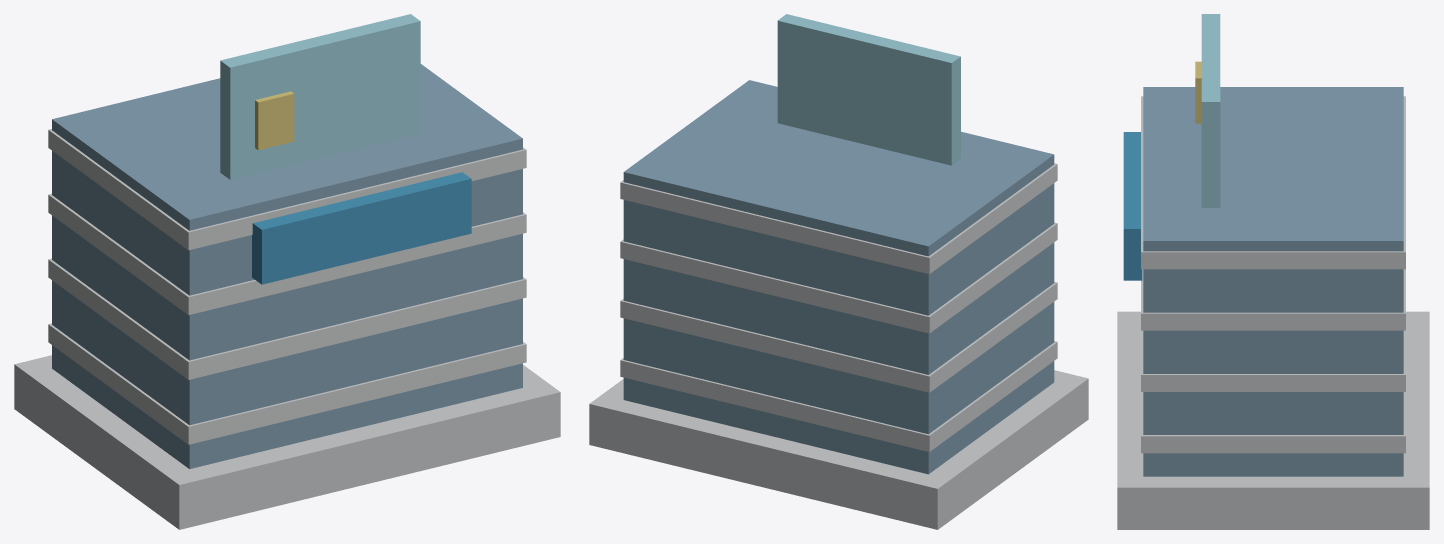
3 views of the same model, side by side, from view 1: azimuth 30°, elevation 25°; view 2: azimuth 150°, elevation 25°; view 3: azimuth 270°, elevation 25° (orthographic). The views are drawn at different scales.
Visible parts, largest first — view 1: main, base, id_card, id_sign, band_0, band_1, band_2, band_3, portrait; view 2: main, base, id_card, band_2, band_1, band_3, band_0; view 3: main, base, band_3, band_0, band_2, band_1, id_card, id_sign, portrait.
Part boxes in pixels (box(x1,y1,x2,y2)): main: box(52, 64, 522, 468); base: box(14, 355, 560, 529); id_card: box(220, 14, 420, 179); id_sign: box(252, 172, 471, 284); band_0: box(48, 323, 526, 444); band_1: box(48, 258, 526, 379); band_2: box(48, 193, 526, 315); band_3: box(48, 129, 526, 250); portrait: box(255, 91, 294, 150); main: box(623, 80, 1054, 474); base: box(589, 370, 1088, 529); id_card: box(777, 14, 960, 165); band_2: box(620, 222, 1057, 333); band_1: box(620, 282, 1057, 392); band_3: box(620, 163, 1057, 274); band_0: box(620, 341, 1057, 451); main: box(1143, 87, 1403, 476); base: box(1117, 311, 1429, 529); band_3: box(1141, 96, 1405, 269); band_0: box(1141, 392, 1405, 453); band_2: box(1141, 269, 1405, 330); band_1: box(1141, 330, 1405, 391); id_card: box(1201, 14, 1220, 207); id_sign: box(1123, 132, 1142, 280); portrait: box(1195, 61, 1201, 123).
Bounding box in the file's own units: 4 × 4.07 × 3.
